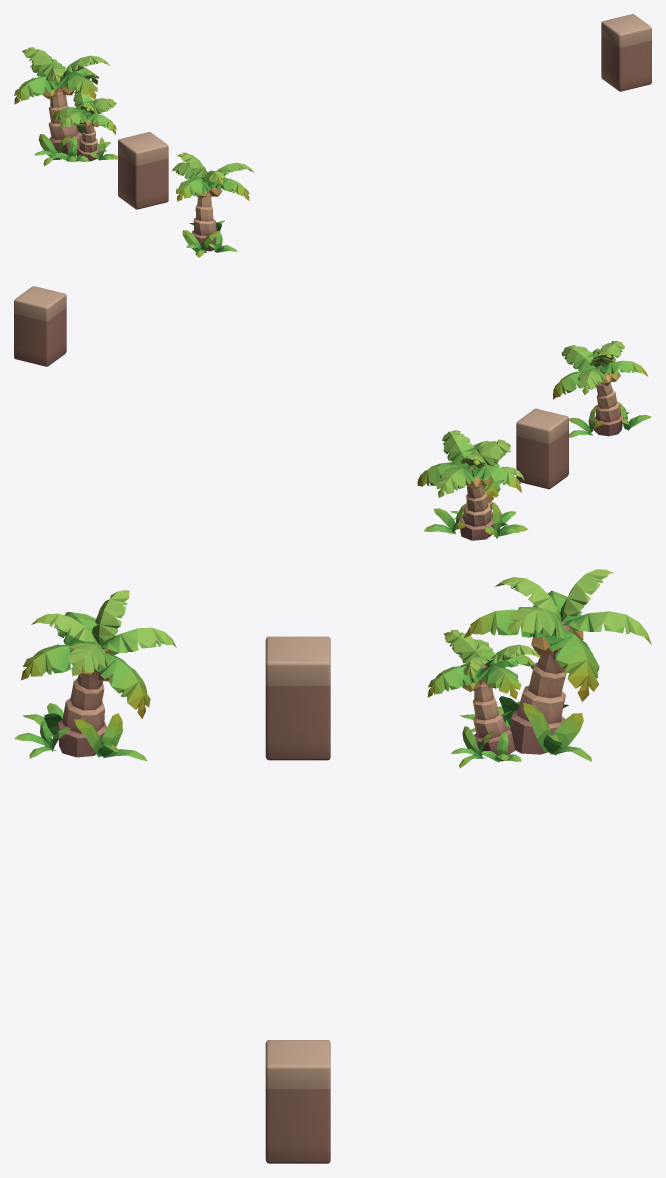
File: Props.fbx
3 renders of one model, top to bottom at view 1: azimuth 30°, elevation 25°; view 2: azimuth 150°, elevation 25°; view 3: azimuth 270°, elevation 25°, orthographic. The views are drawn at different scales.
Parts seen in each view (by area): view 1: yezishu01, yezishu02, Box03, Box03 (1); view 2: yezishu01, yezishu02, Box03 (1), Box03; view 3: yezishu01, yezishu02, Box03, Box03 (1).
Boxes of the visible parts, x1=… form: yezishu01: x1=14, y1=47, x2=117, y2=165; yezishu02: x1=172, y1=152, x2=253, y2=257; Box03: x1=118, y1=132, x2=168, y2=209; Box03 (1): x1=601, y1=14, x2=651, y2=91; yezishu01: x1=417, y1=430, x2=528, y2=540; yezishu02: x1=553, y1=341, x2=651, y2=437; Box03 (1): x1=14, y1=286, x2=66, y2=366; Box03: x1=516, y1=408, x2=568, y2=489; yezishu01: x1=427, y1=569, x2=651, y2=767; yezishu02: x1=14, y1=590, x2=176, y2=761; Box03: x1=265, y1=636, x2=330, y2=760; Box03 (1): x1=265, y1=1040, x2=330, y2=1163.
Bounding box in the file's own units: 50.45 × 8.33 × 29.42.
